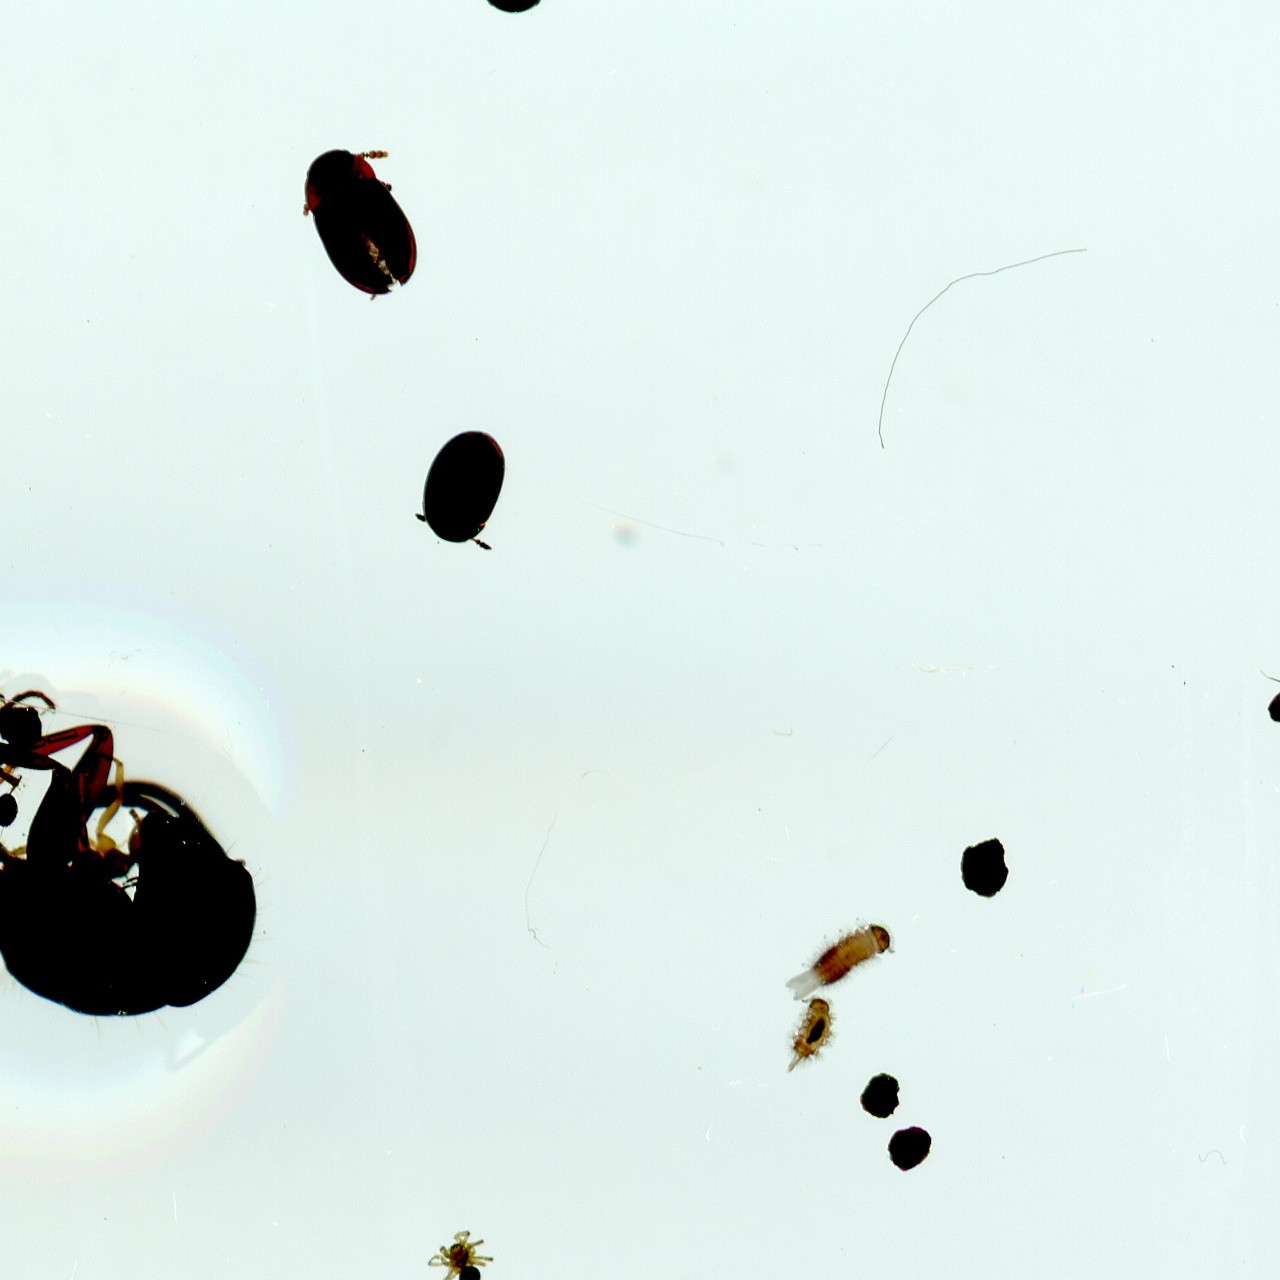arthropod: (0, 672, 261, 1030), (304, 141, 422, 306), (417, 430, 508, 549), (781, 919, 898, 996), (781, 999, 836, 1078), (423, 1224, 492, 1280), (1260, 667, 1280, 731)
